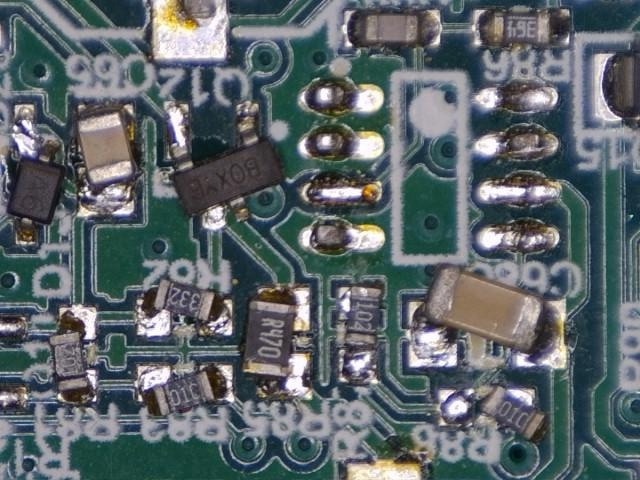pcb_defect: (407, 262, 567, 369), (162, 101, 285, 229), (5, 102, 67, 246), (240, 282, 314, 401), (73, 102, 141, 218), (436, 383, 548, 443), (133, 277, 234, 338), (134, 363, 235, 417), (335, 284, 384, 384), (48, 306, 98, 403)
